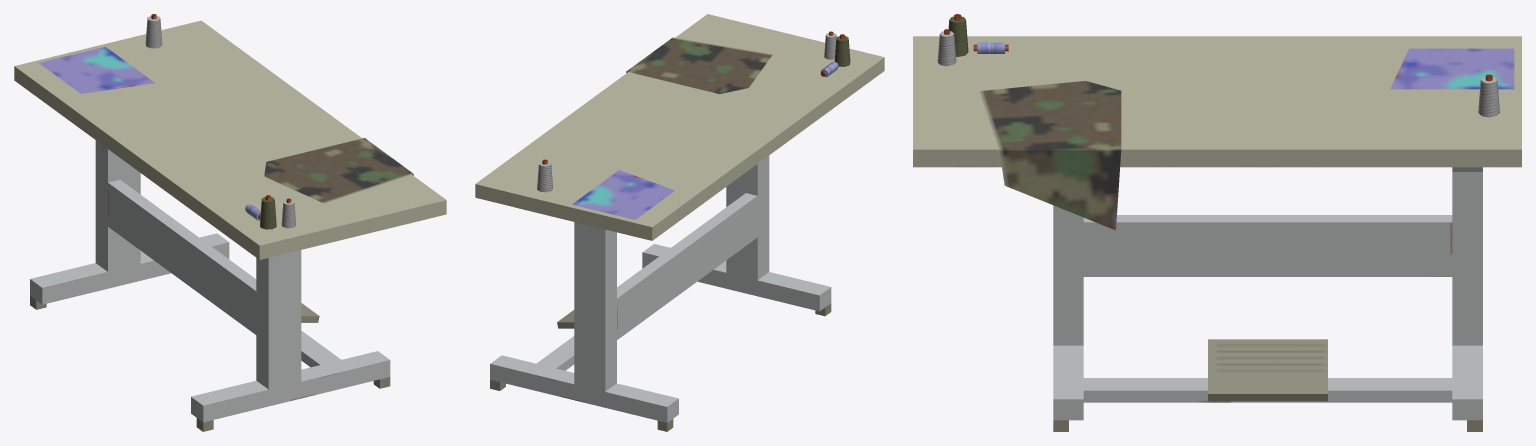
Rendered from Table.fbx.
3 views of the same model, side by side, from view 1: azimuth 30°, elevation 25°; view 2: azimuth 150°, elevation 25°; view 3: azimuth 270°, elevation 25° (orthographic). The views are drawn at different scales.
Parts seen in each view (by area): view 1: Base, Legs, Cloths, Peregorodka, DownPart, BrownWire, White; view 2: Base, Legs, Cloths, Peregorodka, DownPart, White, BrownWire; view 3: Base, Peregorodka, Cloths, Legs, Pedal, DownPart, White, BrownWire, White wire.
Part boxes in pixels (x1,y1,x2,y2): Base: (14, 20, 446, 259); Legs: (30, 140, 390, 422); Cloths: (39, 46, 413, 203); Peregorodka: (108, 180, 256, 334); DownPart: (301, 330, 341, 367); BrownWire: (260, 195, 276, 229); White: (145, 14, 162, 48); Base: (475, 14, 884, 240); Legs: (490, 155, 831, 422); Cloths: (572, 37, 772, 219); Peregorodka: (617, 193, 757, 339); DownPart: (536, 336, 574, 370); White: (537, 159, 552, 192); BrownWire: (834, 34, 850, 66); Base: (913, 36, 1521, 167); Peregorodka: (1083, 215, 1452, 276); Cloths: (979, 48, 1514, 230); Legs: (1053, 167, 1482, 420); Pedal: (1208, 339, 1327, 401); DownPart: (1083, 378, 1452, 402); White: (1478, 74, 1499, 117); BrownWire: (948, 14, 968, 56); White wire: (937, 29, 956, 66).
Size of the model in its own units: 8 by 10.42 by 18.
1 material, 1 textured.
